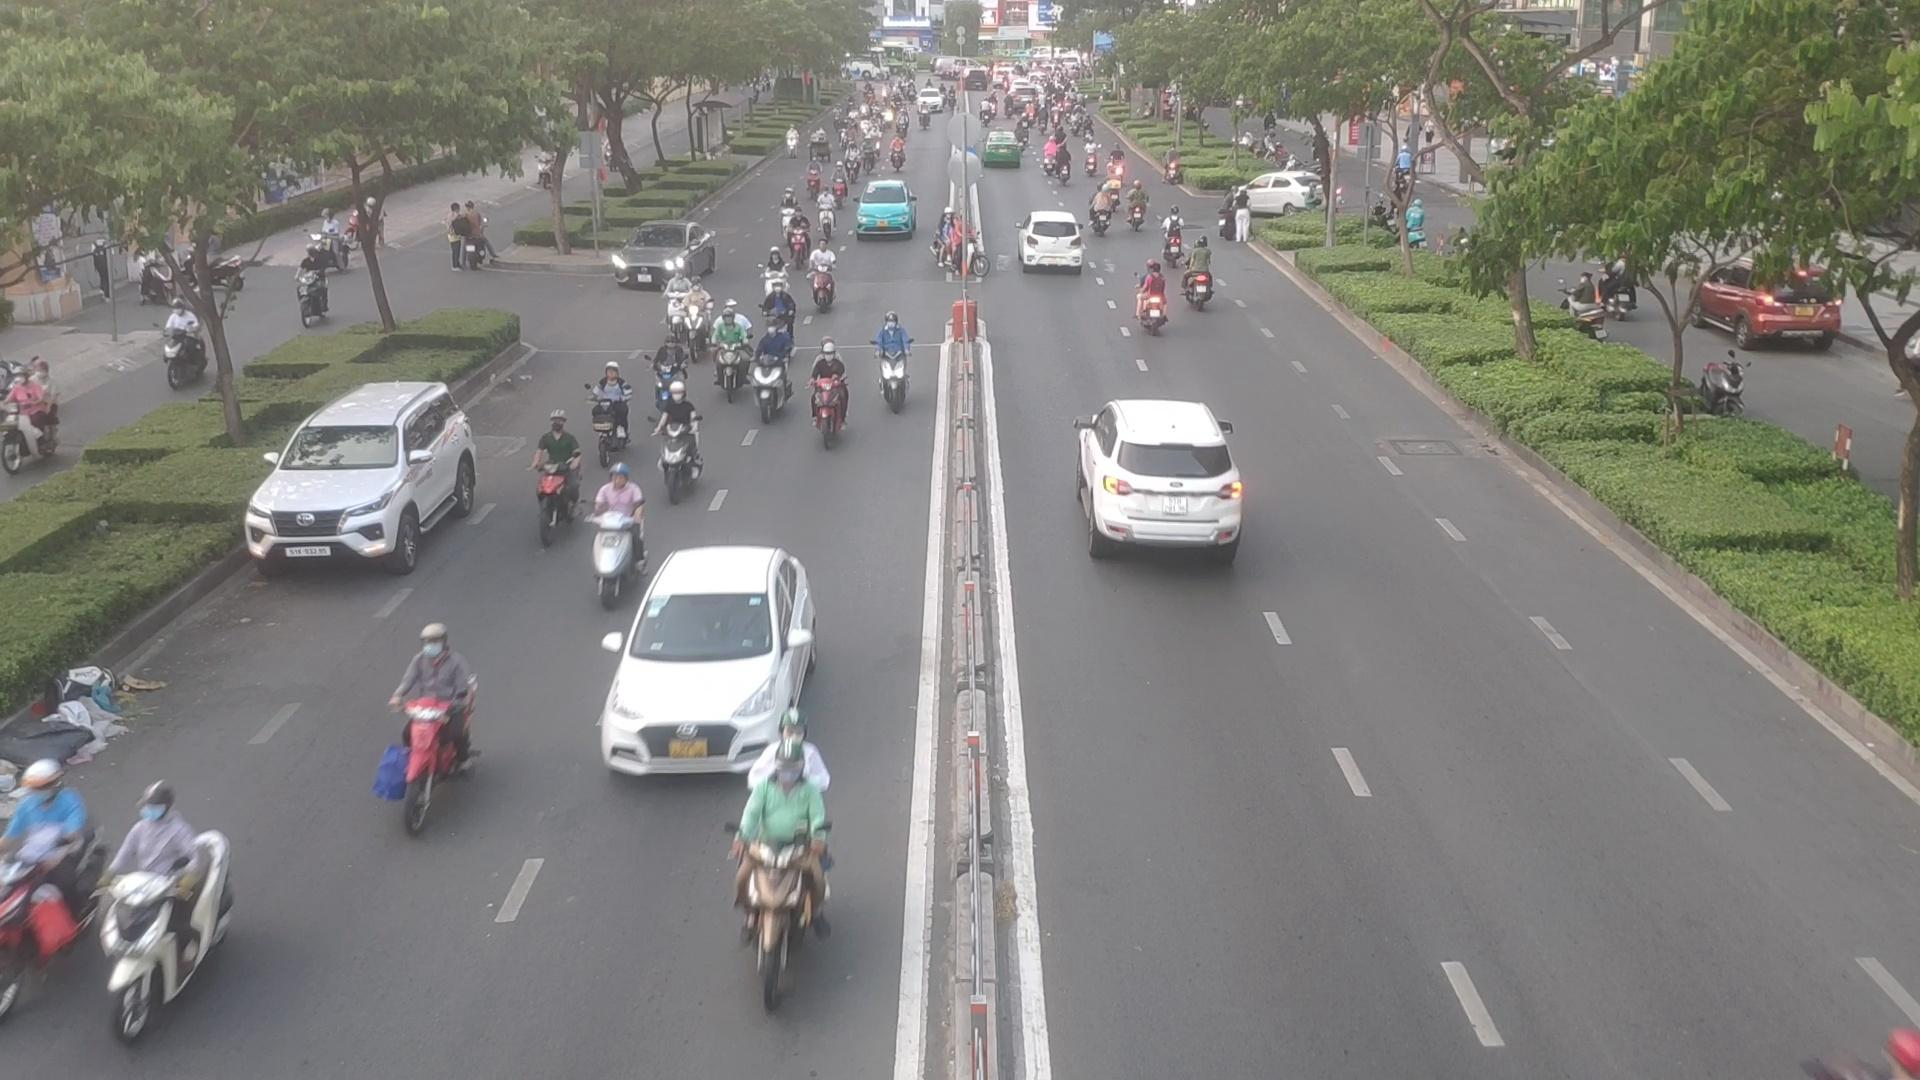car: (589, 543, 820, 781), (244, 382, 488, 575), (1075, 401, 1247, 555), (1693, 258, 1847, 351), (611, 223, 723, 293), (1018, 208, 1087, 273), (1236, 171, 1324, 218), (857, 179, 920, 239)
motorbike: (115, 771, 253, 1056), (711, 721, 843, 1018), (392, 607, 512, 836), (13, 753, 99, 1022), (535, 404, 582, 549), (574, 349, 625, 458), (868, 303, 913, 421), (665, 382, 708, 493), (818, 338, 861, 448), (603, 468, 641, 592), (756, 316, 795, 421), (1185, 244, 1237, 322), (746, 274, 798, 349), (712, 301, 752, 396), (686, 268, 723, 364), (949, 218, 993, 287), (645, 334, 683, 404), (1125, 262, 1158, 338), (1166, 203, 1196, 273), (760, 243, 789, 313), (811, 239, 833, 323), (816, 185, 847, 239), (658, 265, 684, 327), (778, 207, 810, 255), (1133, 179, 1156, 243), (773, 186, 799, 241), (1085, 183, 1110, 240)
